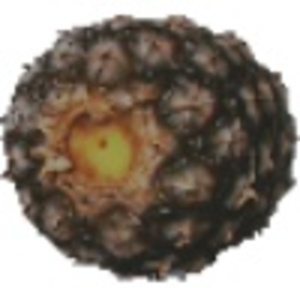abacaxi: (5, 17, 283, 270)
